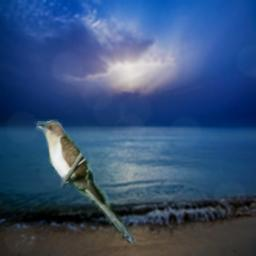Cuckoo: (34, 119, 136, 249)
